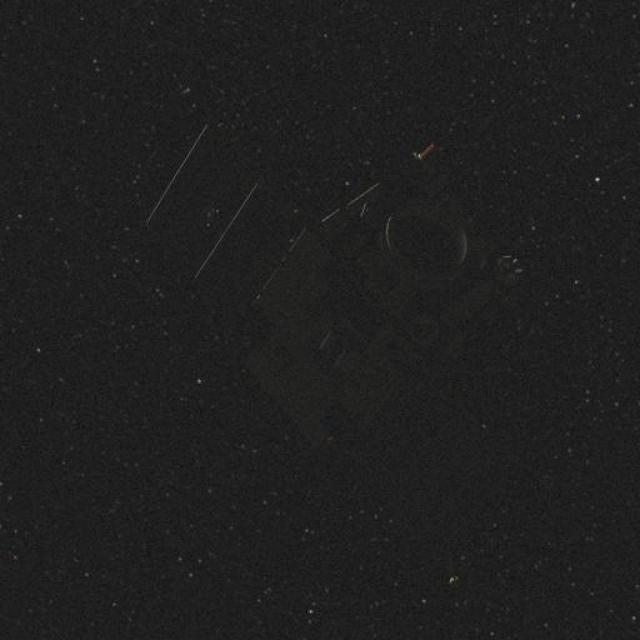proba_2: (125, 130, 610, 443)
